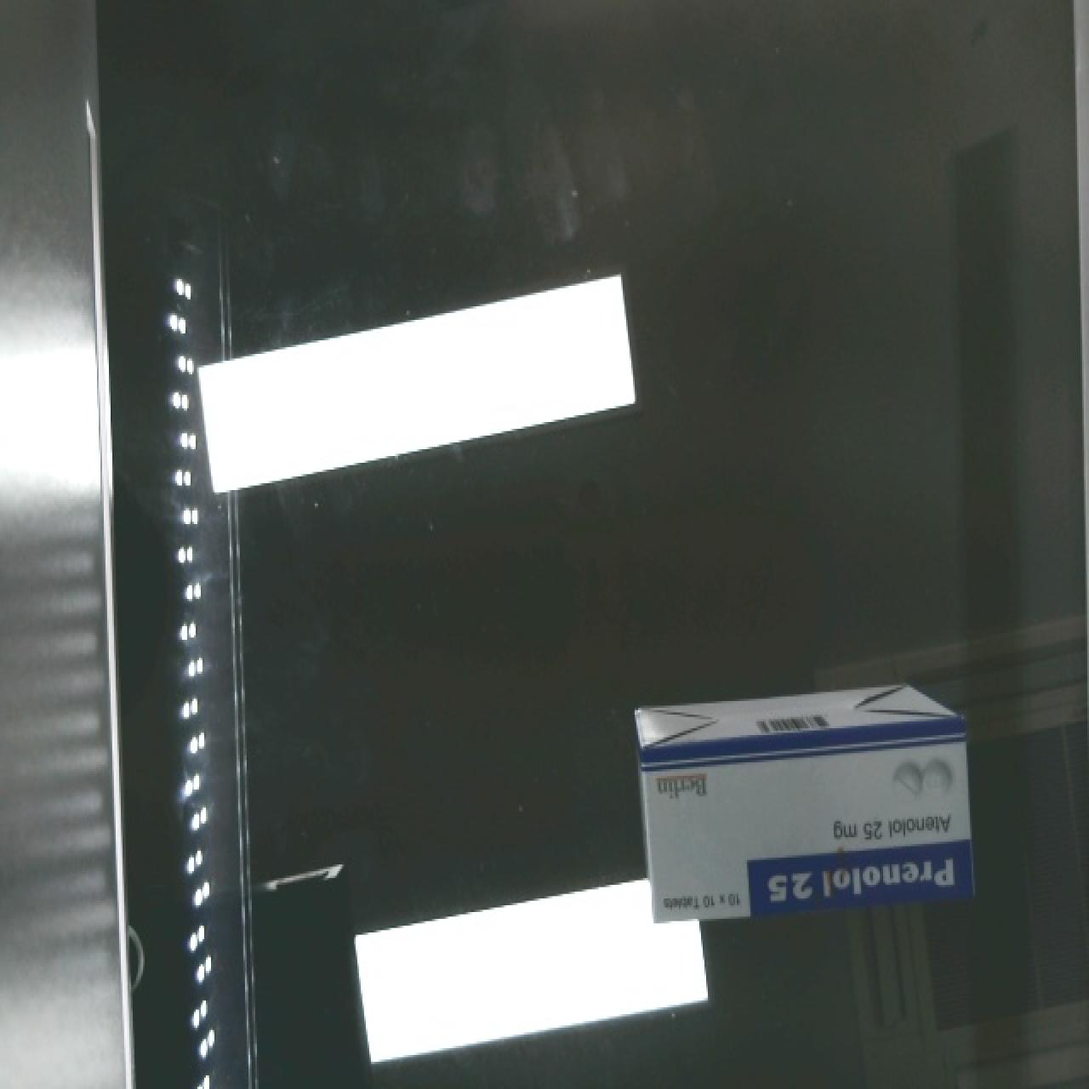medicine_label_obb: (746, 841, 972, 914)
